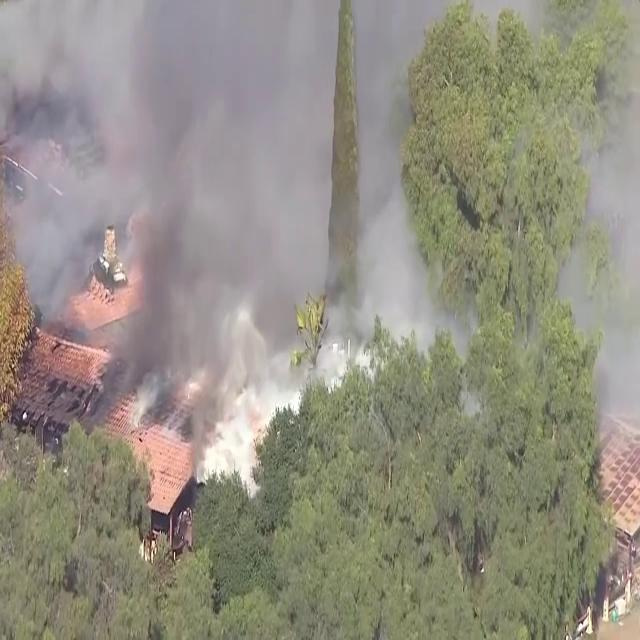Smoke: (1, 0, 362, 439), (560, 2, 640, 464)
